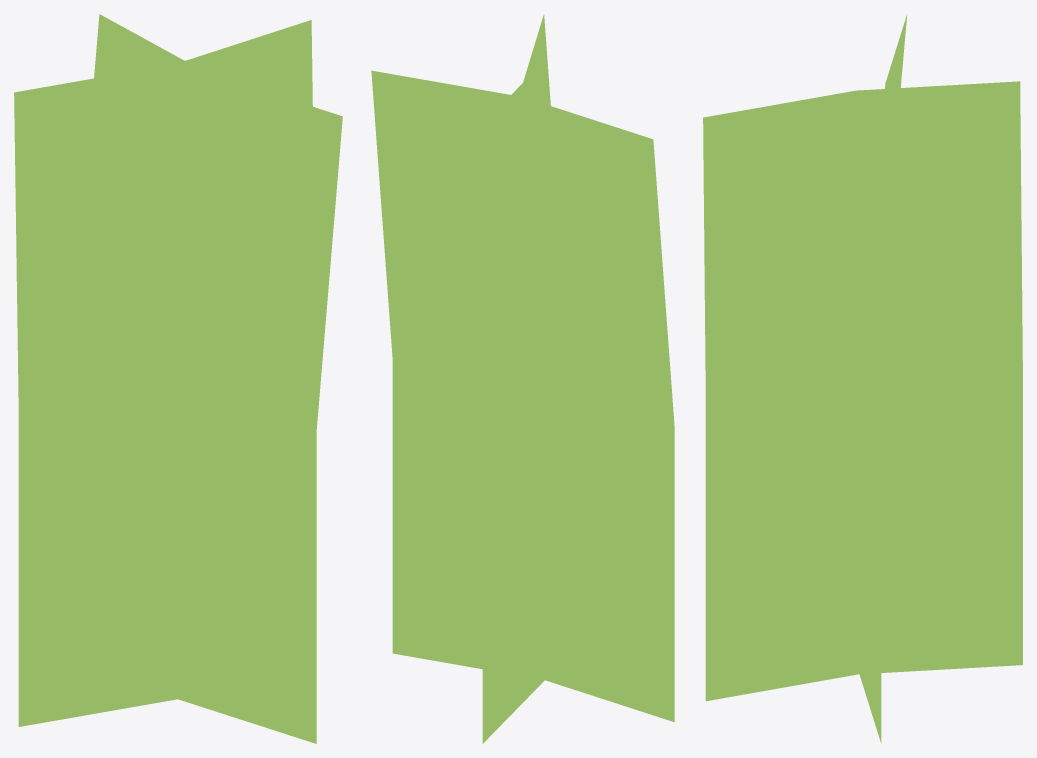
Rendered from GrassPlanes_a_TwoS_02.fbx.
3 views of the same model, side by side, from view 1: azimuth 30°, elevation 25°; view 2: azimuth 150°, elevation 25°; view 3: azimuth 270°, elevation 25° (orthographic). The views are drawn at different scales.
Visible parts, largest first — view 1: GrassPlanes_a_TwoS_02; view 2: GrassPlanes_a_TwoS_02; view 3: GrassPlanes_a_TwoS_02.
Part boxes in pixels (x1,y1,x2,y2): GrassPlanes_a_TwoS_02: [14, 14, 342, 743]; GrassPlanes_a_TwoS_02: [371, 14, 674, 743]; GrassPlanes_a_TwoS_02: [703, 14, 1022, 743].
Bounding box in the file's own units: 0.3566 × 0.6925 × 0.3372.
